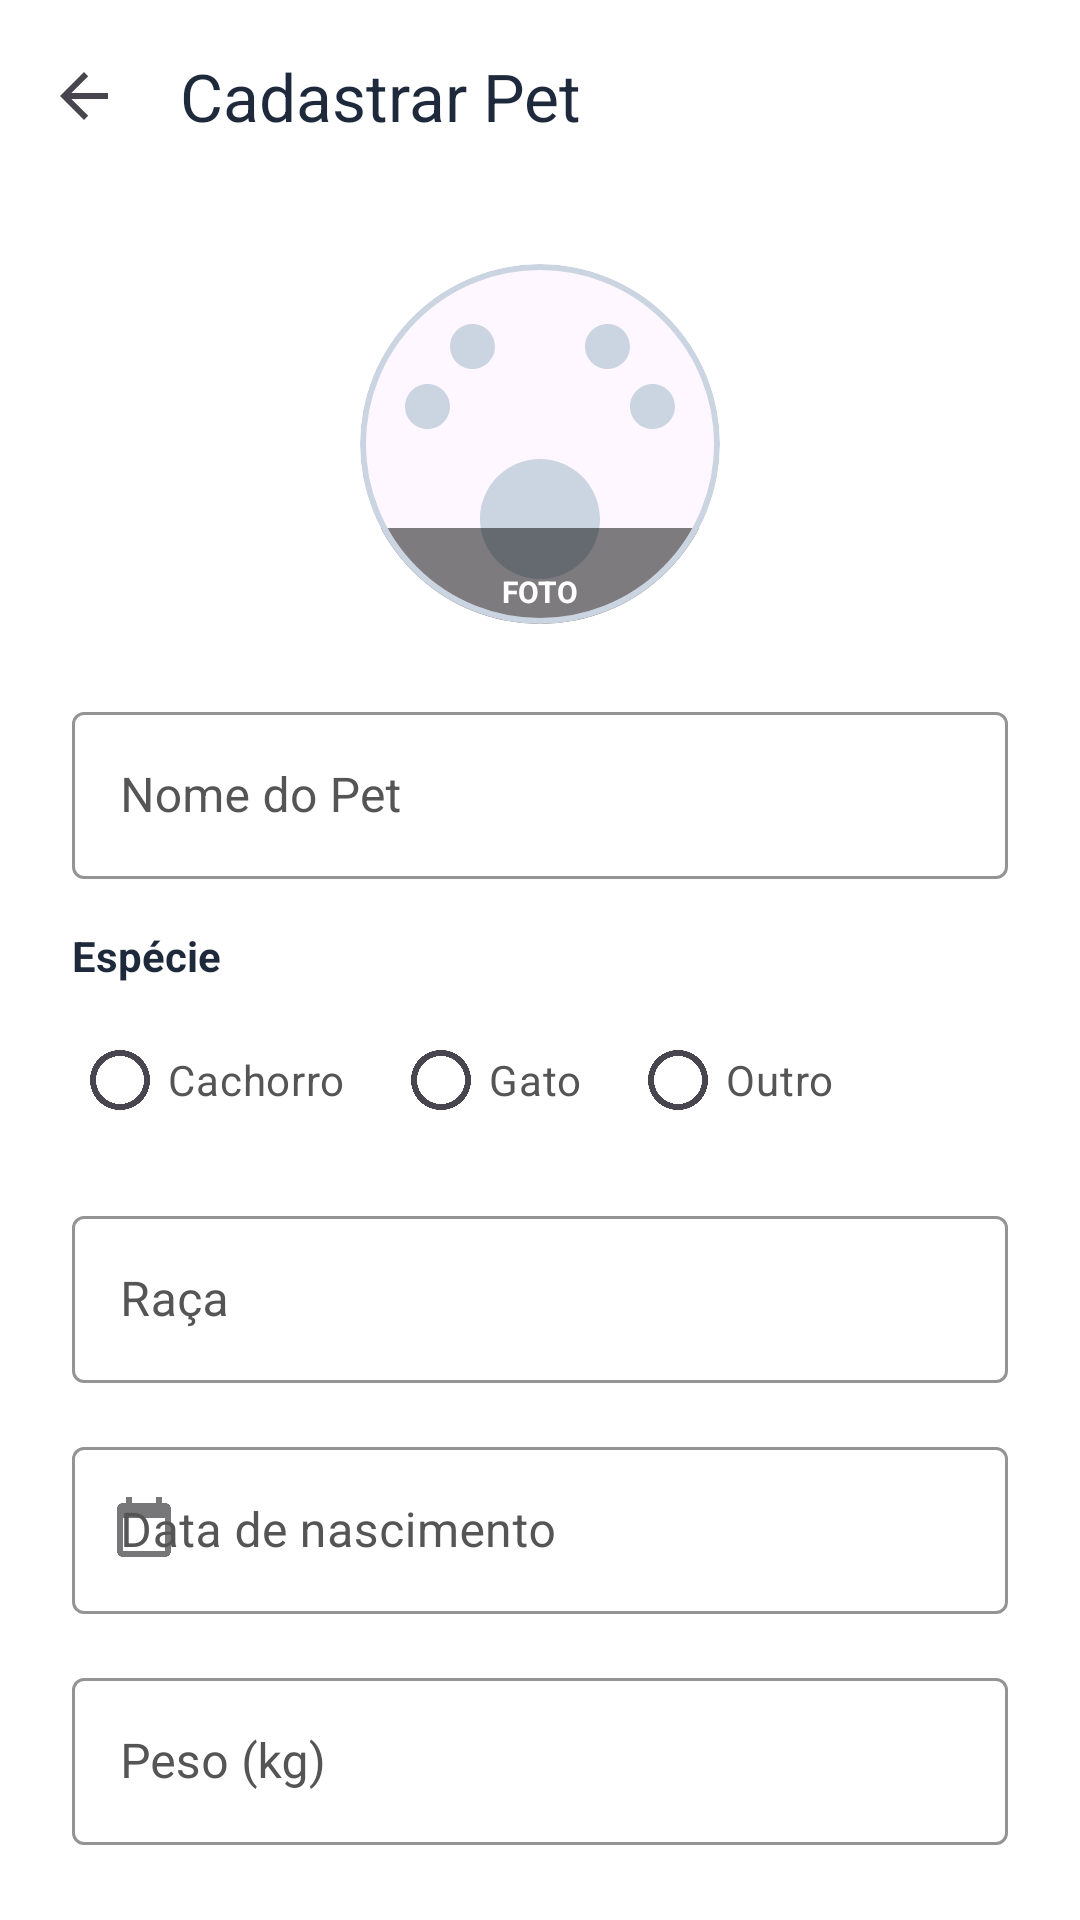

Icon click points for this 1080×1920 phone screenshot, format (x=x, y=y):
pets: (x=540, y=444)
